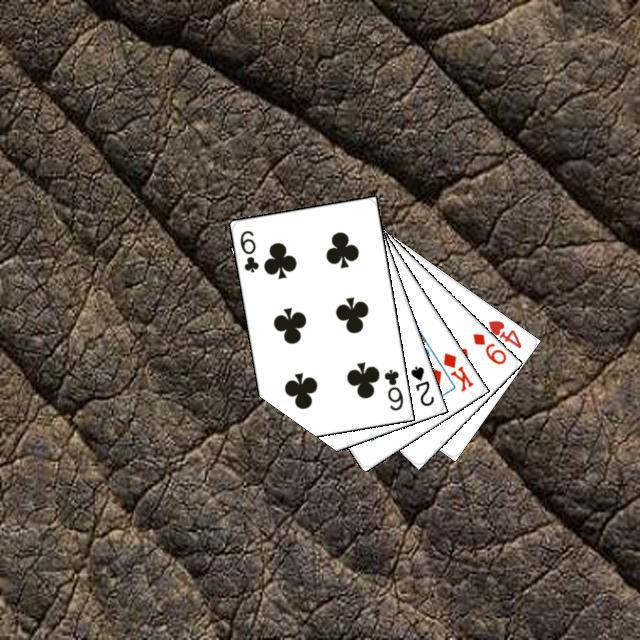2s: (405, 361, 436, 408)
4h: (483, 315, 523, 350)
6c: (235, 225, 261, 274), (379, 364, 405, 412)
9d: (468, 328, 508, 366)
Kd: (438, 347, 475, 393)
